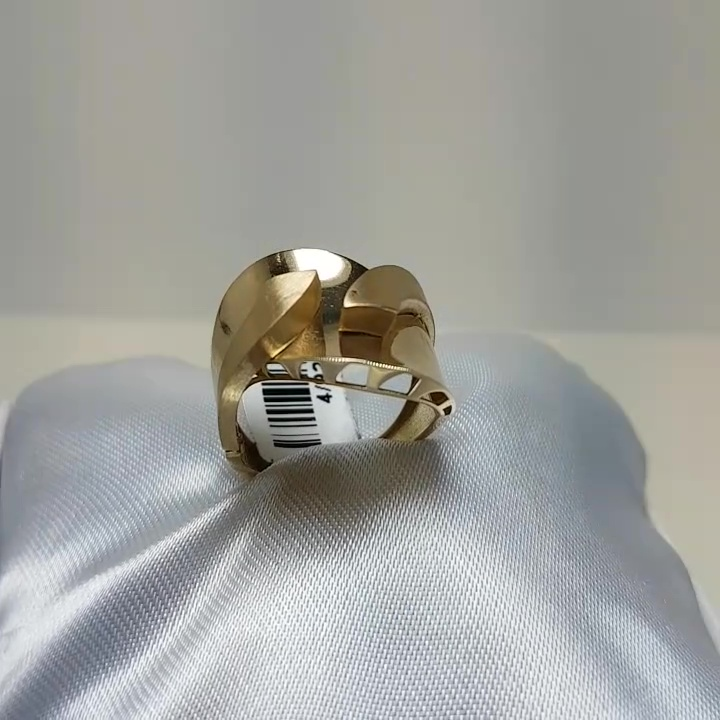Ring 4: (155, 211, 451, 495)
